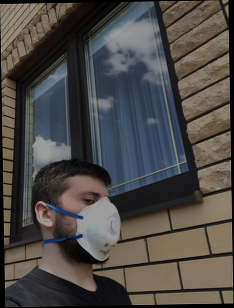with_mask: (68, 187, 123, 265)
